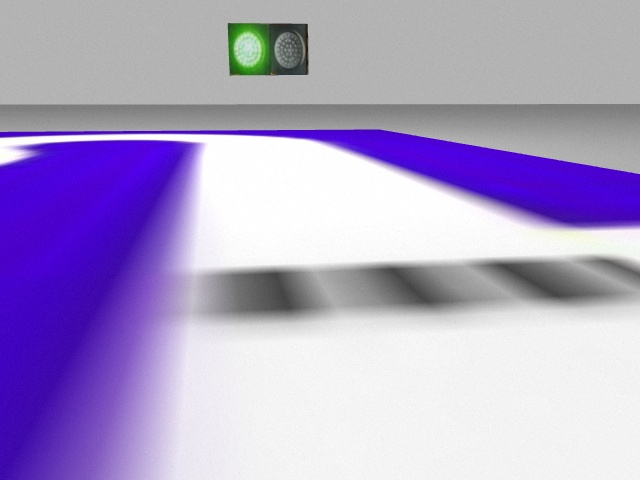green: (227, 22, 271, 76)
